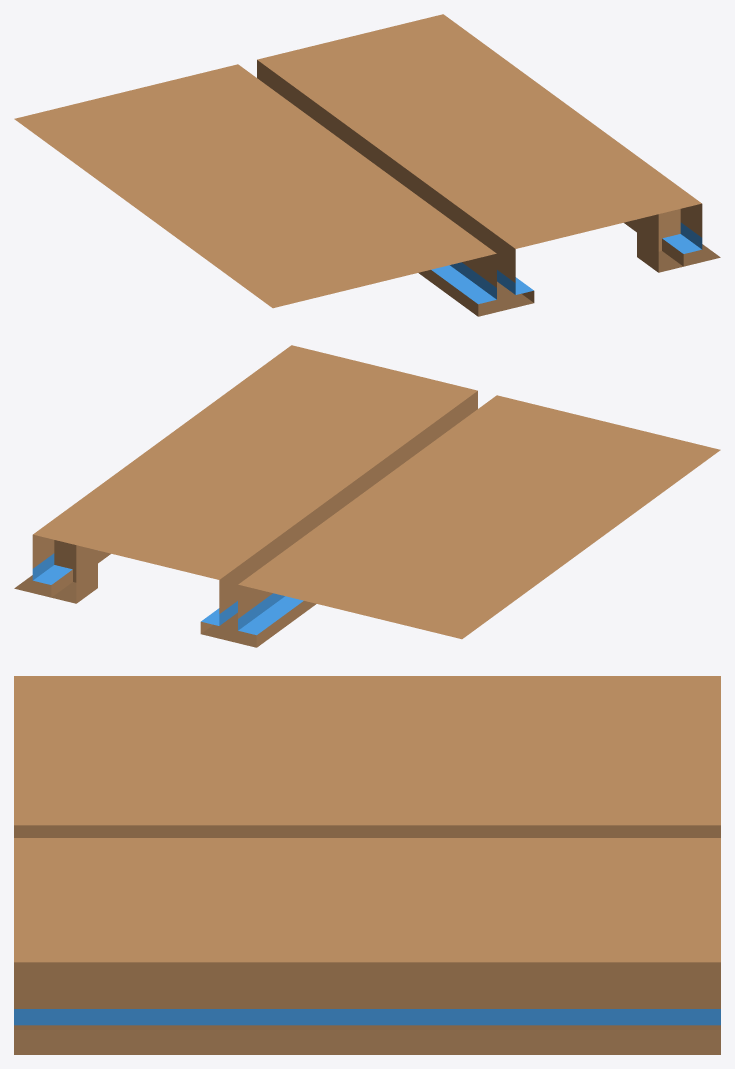
Rendered from mesh_ceiling_02.fbx.
3 renders of one model, top to bottom at view 1: azimuth 30°, elevation 25°; view 2: azimuth 150°, elevation 25°; view 3: azimuth 270°, elevation 25°, orthographic. The views are drawn at different scales.
Visible parts, largest first — view 1: mesh_ceiling_02; view 2: mesh_ceiling_02; view 3: mesh_ceiling_02.
Boxes of the visible parts, x1,y1,x2,y2 form: mesh_ceiling_02: (14,14,720,316); mesh_ceiling_02: (14,345,720,647); mesh_ceiling_02: (14,676,720,1054).
Bounding box in the file's own units: 3 × 3 × 0.375.
